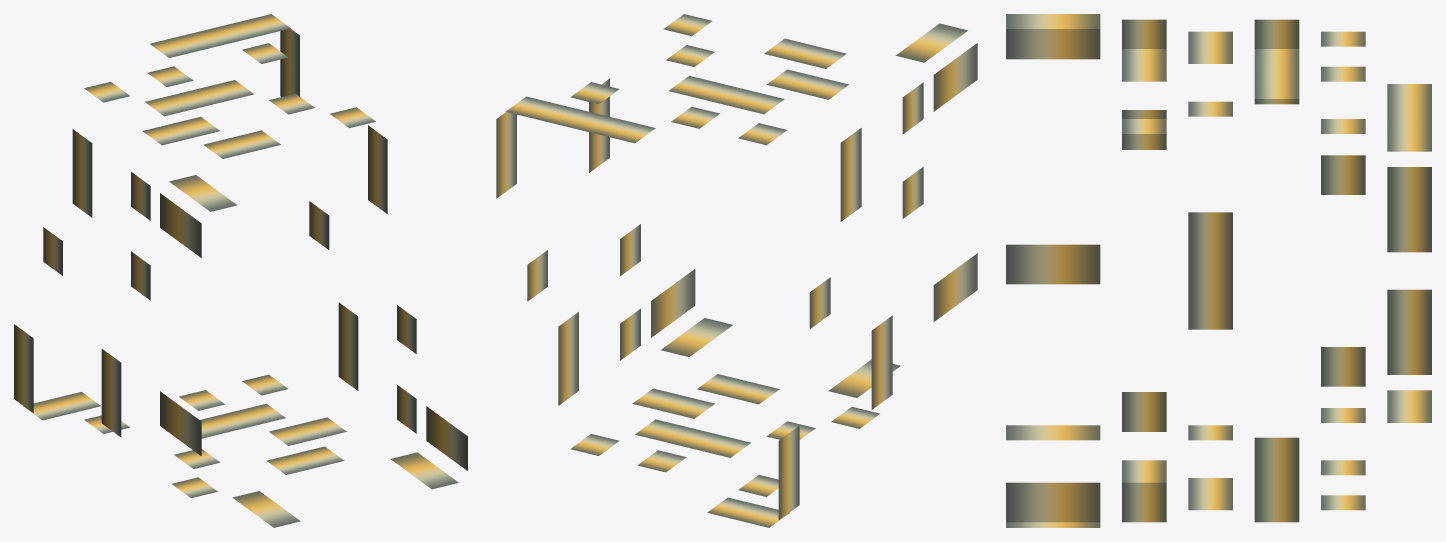
Rendered from window_lights_13d.gltf.
3 views of the same model, side by side, from view 1: azimuth 30°, elevation 25°; view 2: azimuth 150°, elevation 25°; view 3: azimuth 270°, elevation 25° (orthographic). The views are drawn at different scales.
Parts seen in each view (by area): view 1: Window_Lights_13D2; view 2: Window_Lights_13D2; view 3: Window_Lights_13D2.
Part boxes in pixels (bbox=[...]): Window_Lights_13D2: bbox=[14, 14, 467, 527]; Window_Lights_13D2: bbox=[496, 14, 977, 527]; Window_Lights_13D2: bbox=[1006, 14, 1431, 527].
Bounding box in the file's own units: 21.05 × 25.05 × 25.7.
